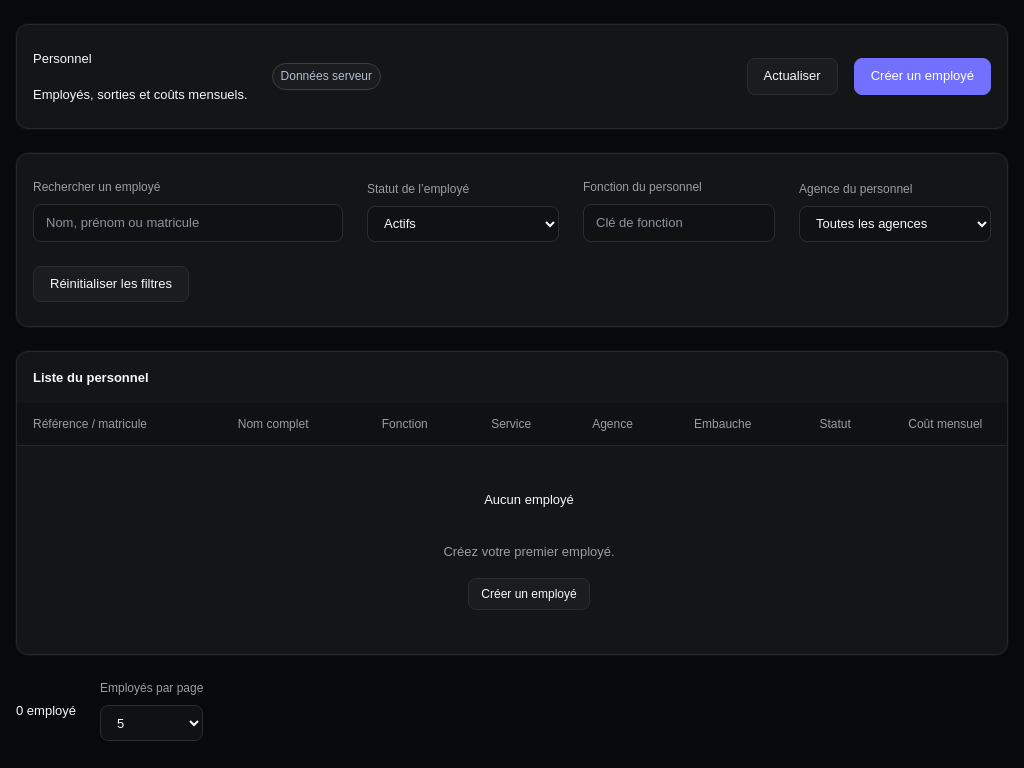
Scenario: Personnel connected presentation › blocks repeated writes after an uncertain response, including after closing the modal
Click the button "Créer un employé" in the row of "Données serveur".
click(922, 76)  # box 854,58 -> 991,95
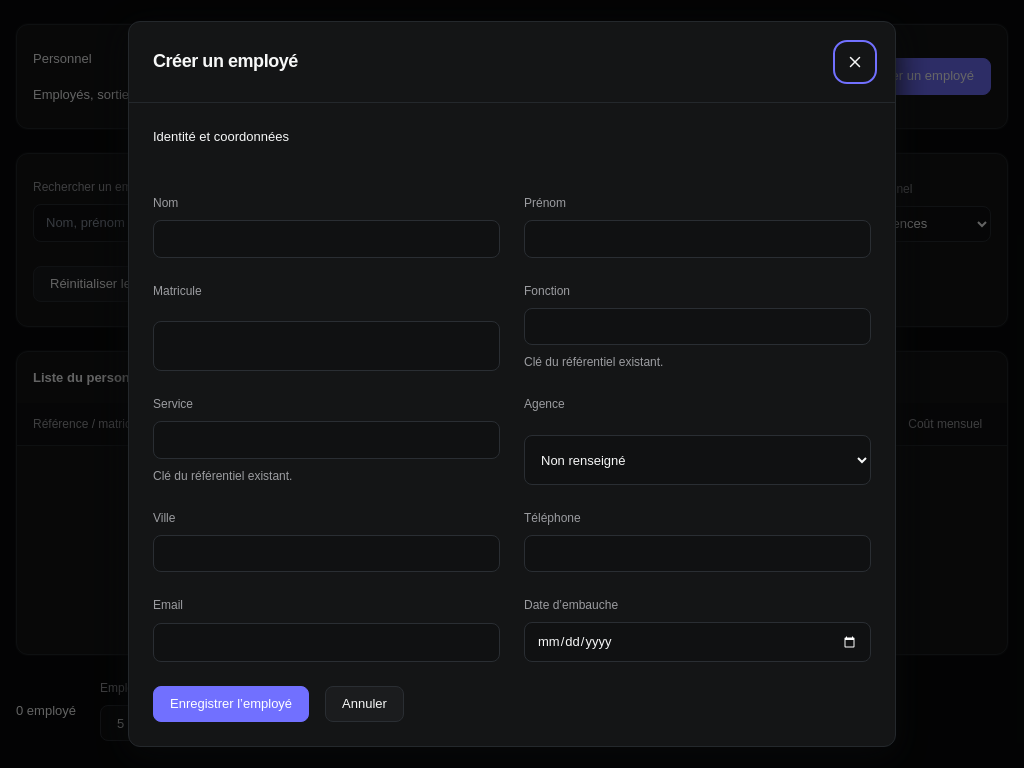
Type "Nouveau" into the field labelled "Nom".
click(326, 239); type("Nouveau")  # box 153,220 -> 500,258
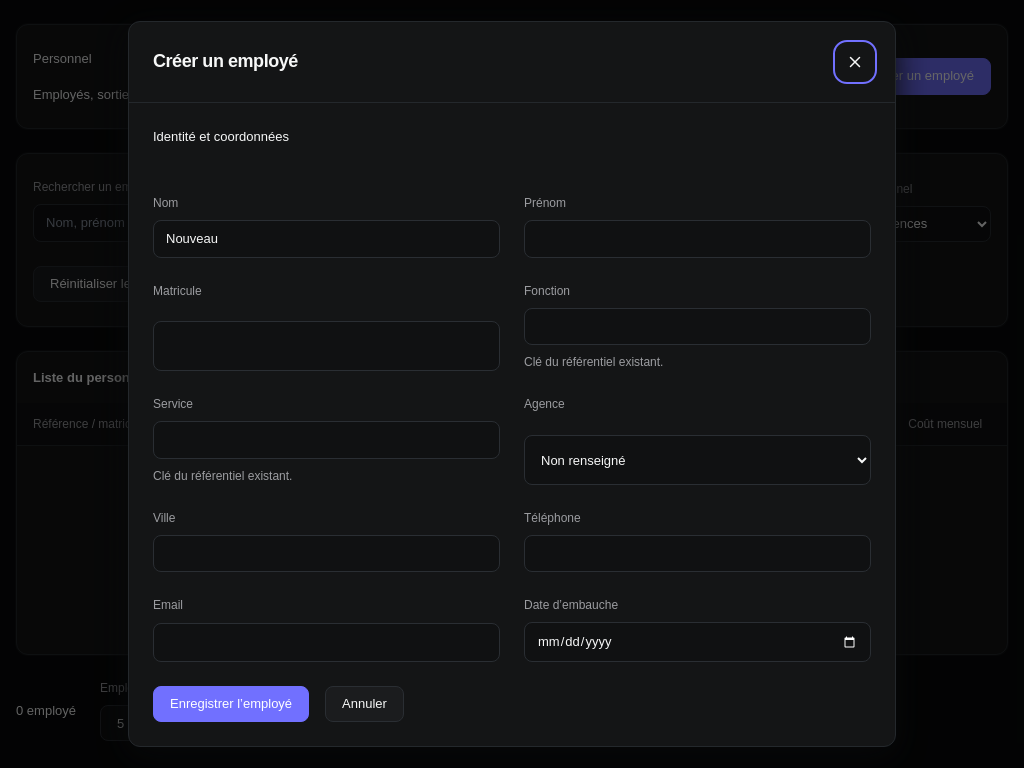
Click the button "Enregistrer l’employé".
click(231, 704)  # box 153,686 -> 309,722
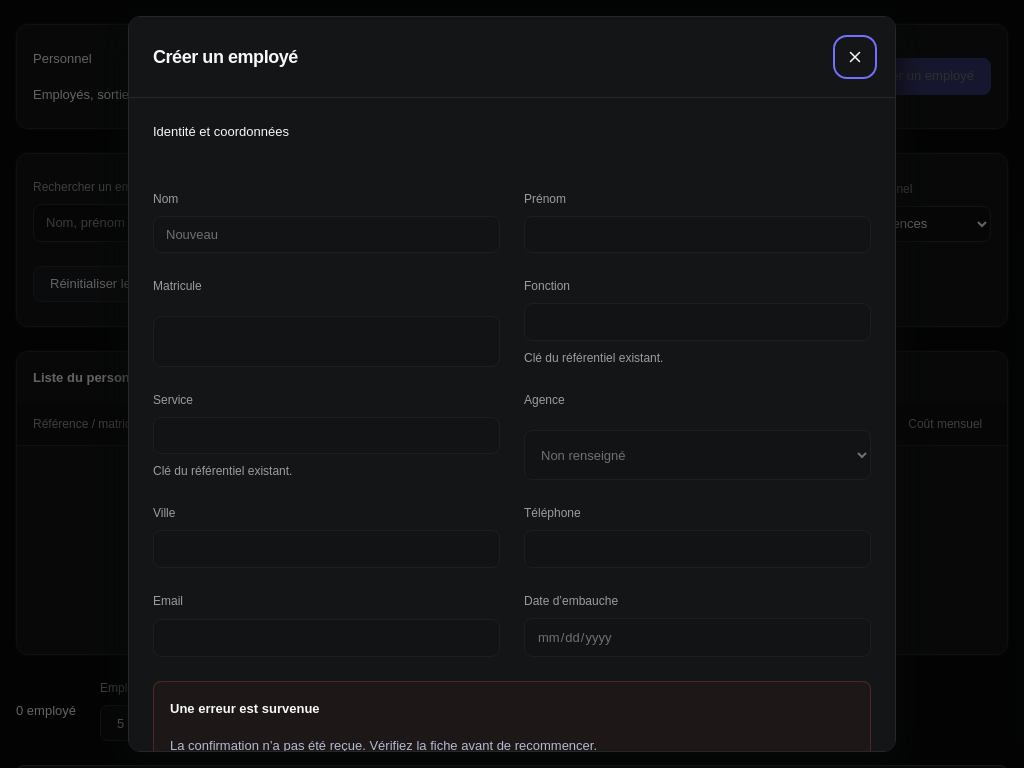
Click the button named "Fermer la fenêtre".
click(855, 57)  # box 839,41 -> 871,73
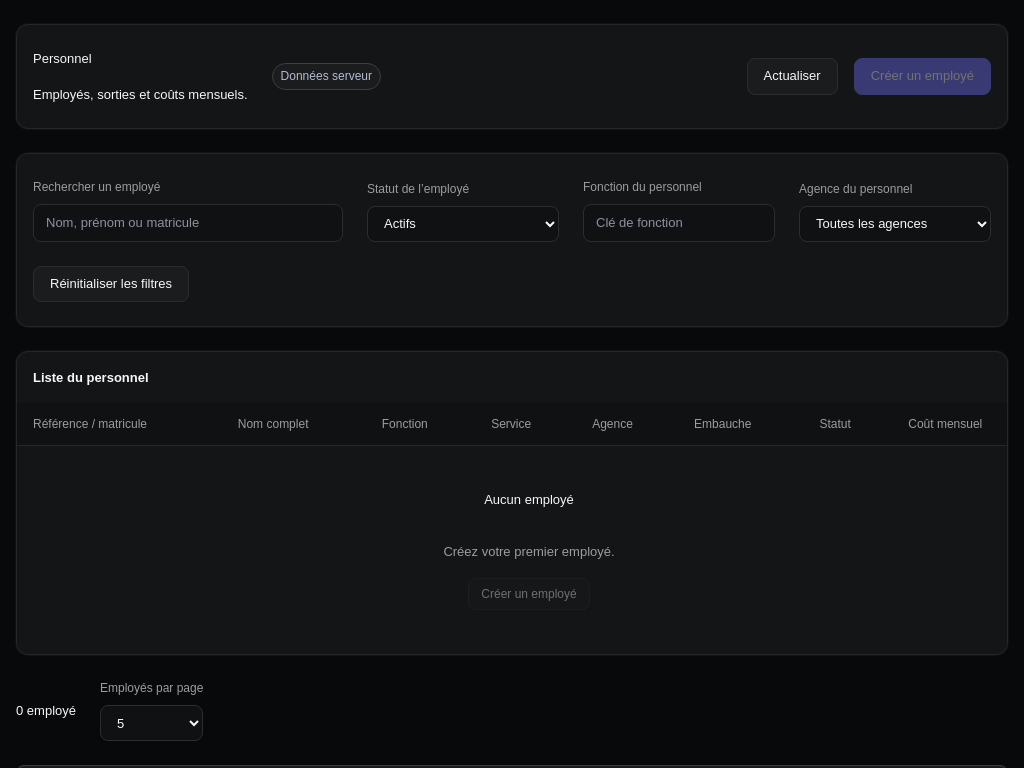
Click the button "Actualiser".
click(792, 76)  # box 747,58 -> 838,95
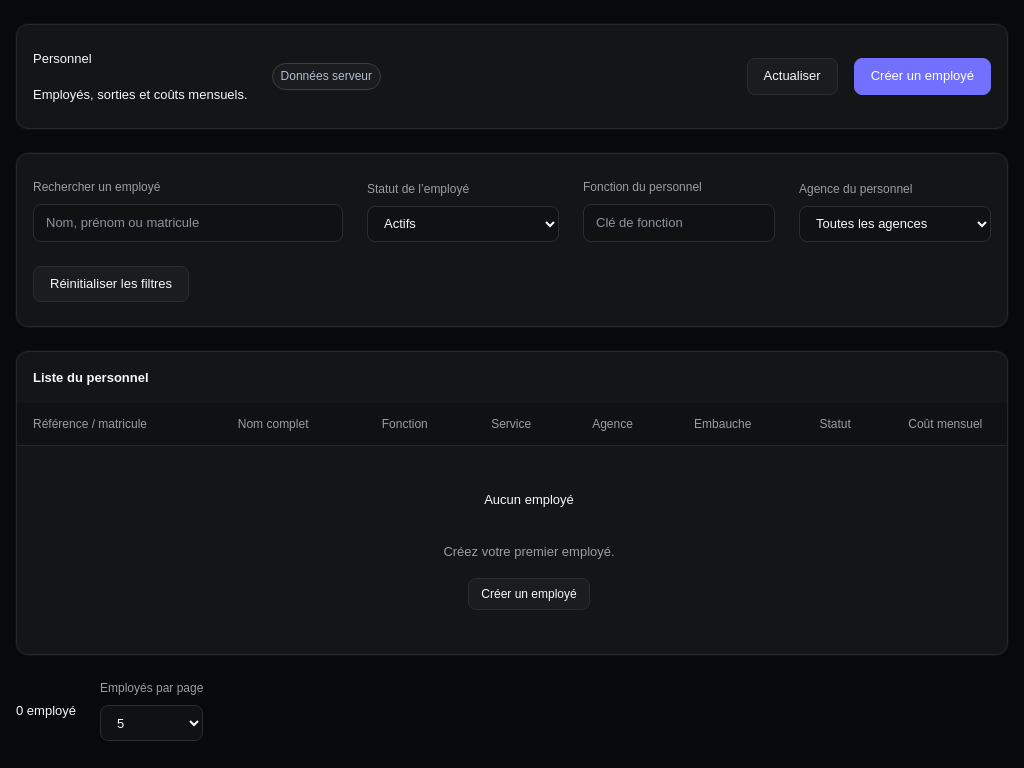
Result: the button "Créer un employé" in the row of "Données serveur" is enabled at 854,58 -> 991,95
